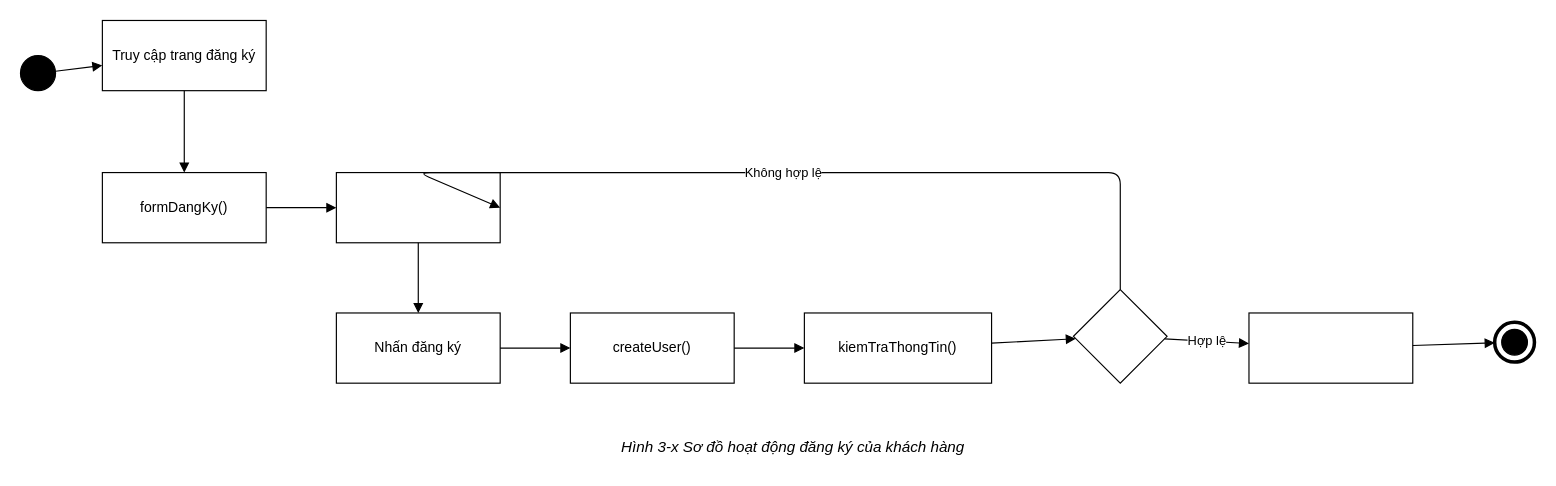
The diagram is 1556 pixels wide and 486 high, and some of its shapes have lost their labels. Each missing label, with the centre of its shape:
Nhập thông tin: the point at 417,207
saveUser(): the point at 1330,347
